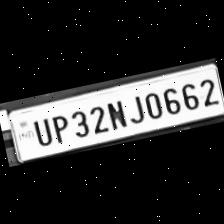0: (139, 87, 163, 120)
2: (194, 73, 220, 108), (85, 101, 109, 135)
3: (66, 105, 90, 138)
6: (158, 82, 182, 116), (176, 78, 200, 112)
J: (123, 90, 146, 126)
N: (102, 96, 128, 131)
P: (47, 110, 71, 144)
U: (27, 114, 52, 148)
